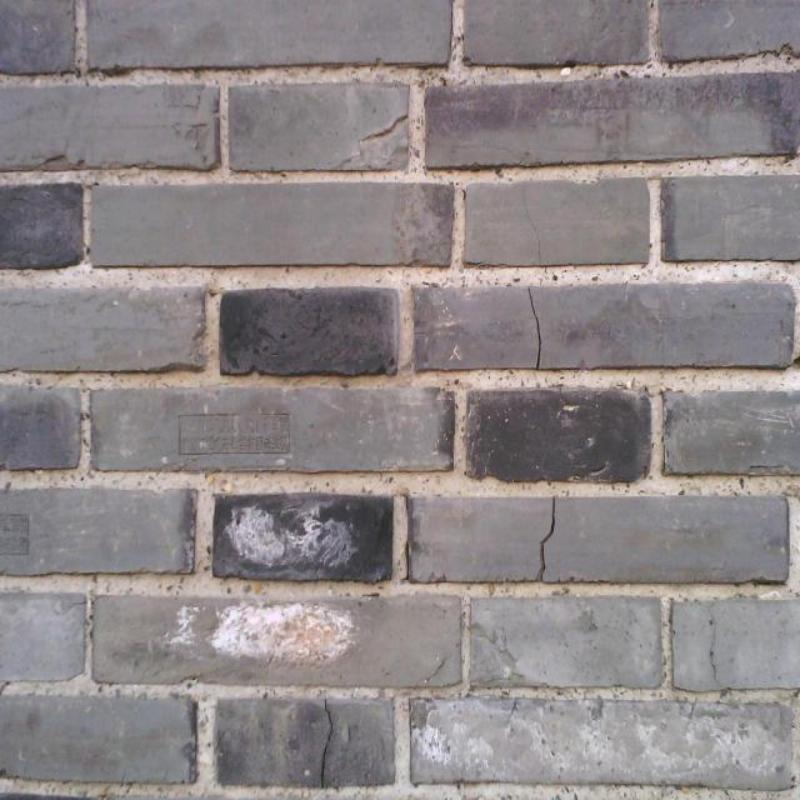pothole: (705, 602, 736, 690), (536, 496, 555, 581), (522, 185, 541, 265), (359, 115, 408, 144), (528, 289, 541, 370), (325, 699, 333, 743), (321, 745, 327, 789)
